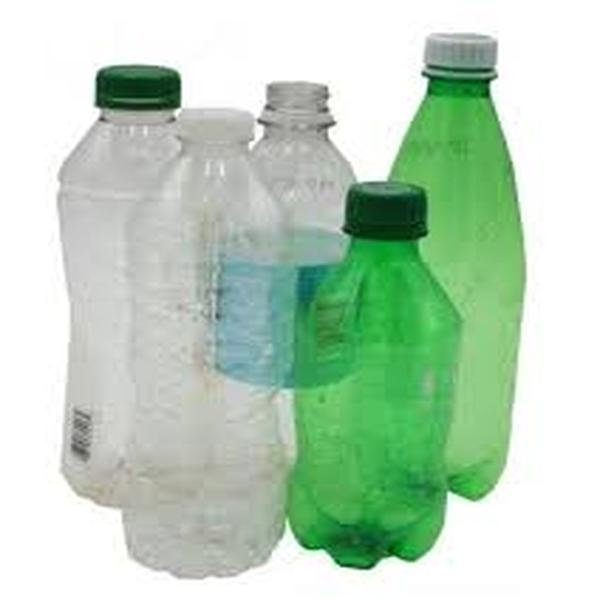tutuma: (295, 169, 458, 574)
